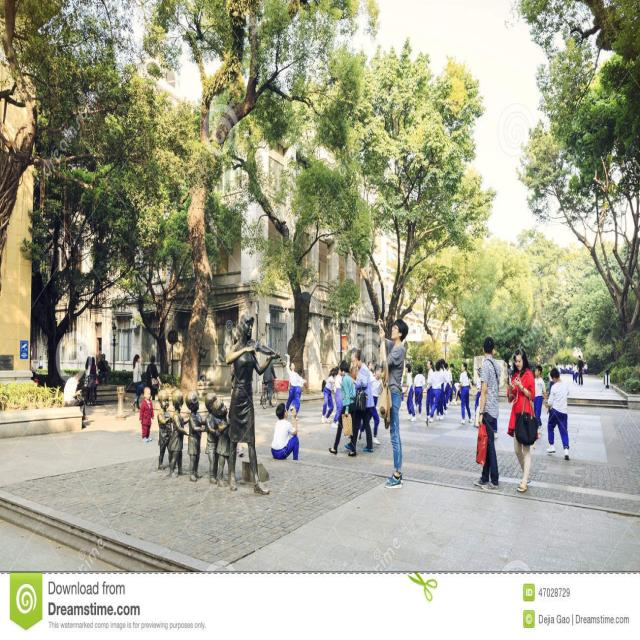body: (155, 312, 286, 496), (489, 360, 588, 440), (376, 312, 410, 490), (471, 336, 502, 494), (506, 347, 539, 493), (343, 348, 376, 452), (328, 358, 357, 458), (545, 366, 571, 462), (356, 364, 384, 446), (362, 356, 406, 404), (280, 352, 307, 422), (270, 402, 299, 462), (425, 360, 448, 427), (62, 371, 90, 423), (532, 363, 548, 435), (457, 360, 473, 425), (433, 357, 449, 418), (320, 365, 336, 425), (138, 385, 154, 444), (130, 353, 145, 413), (330, 365, 344, 429), (404, 362, 418, 422), (289, 367, 304, 422), (412, 364, 426, 421), (145, 355, 162, 401), (424, 359, 436, 423), (262, 356, 277, 407), (92, 350, 114, 382), (82, 355, 93, 407), (89, 356, 100, 403), (96, 352, 110, 387), (348, 346, 361, 382), (473, 366, 482, 414), (446, 362, 455, 407), (547, 364, 555, 396), (452, 380, 462, 402), (578, 355, 584, 387), (572, 361, 579, 386), (38, 355, 44, 369), (29, 358, 35, 372)
